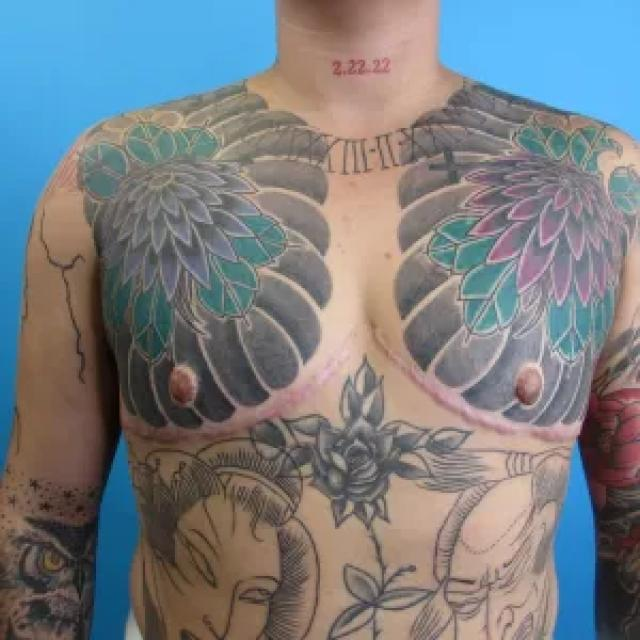Seno herido: (98, 286, 361, 456), (371, 286, 609, 454)
